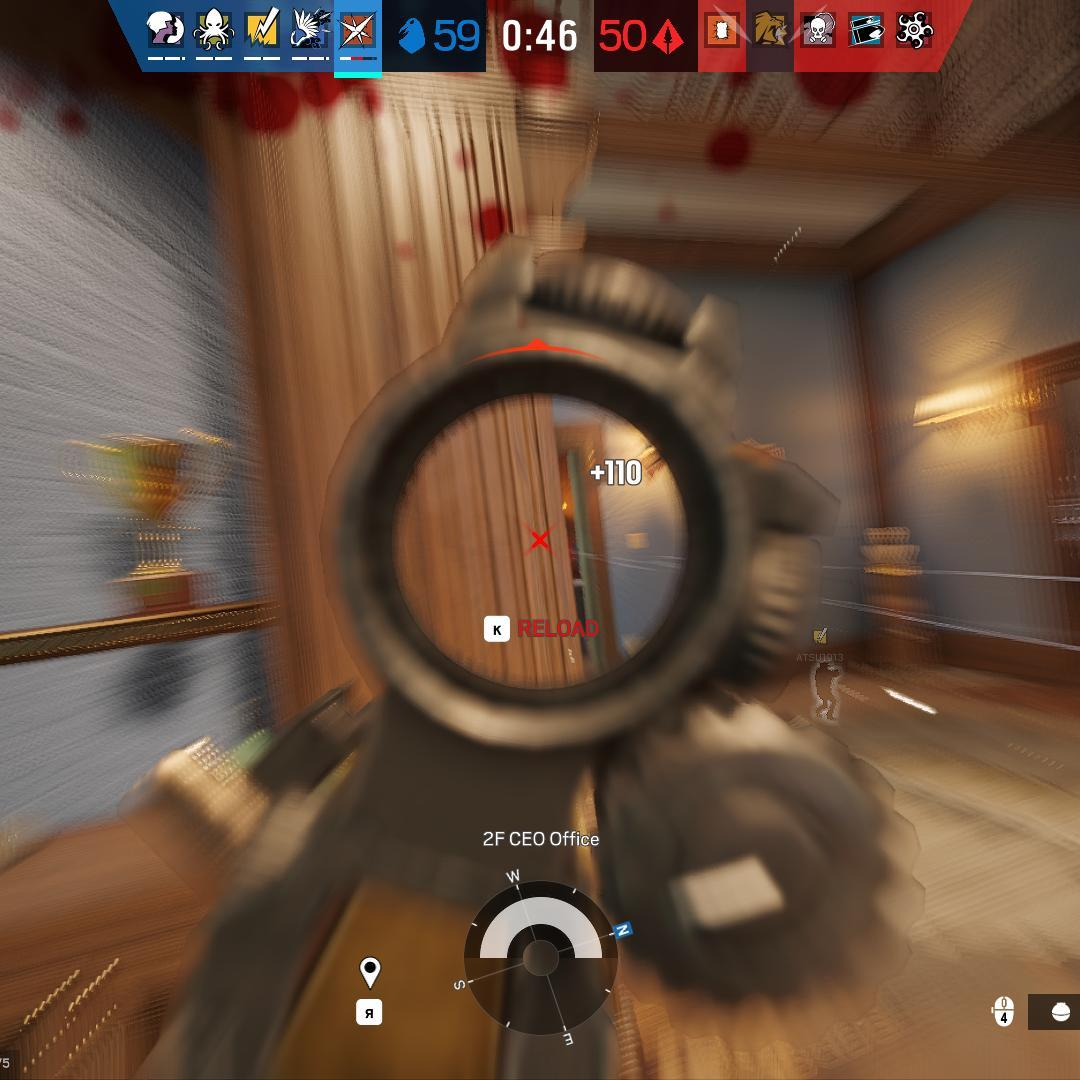Friend_label: (797, 625, 848, 664)
